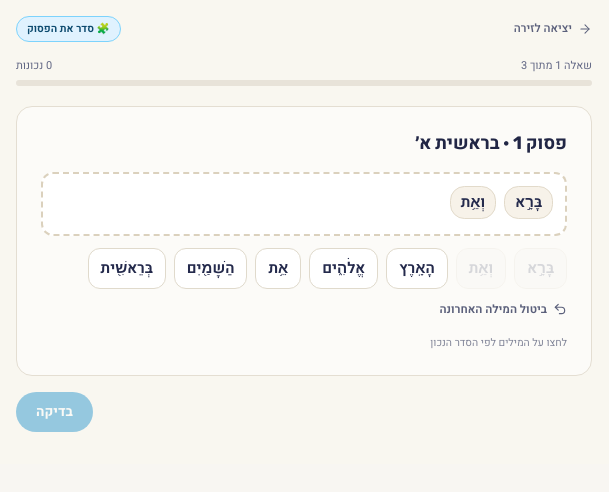
Test: arena page › shows the correct verse order after a wrong answer instead of hiding it
The image size is (609, 492).
Earlier steps of the test are not shown.
Click the button "הָאָֽרֶץ".
click(417, 268)  # box [386, 248, 448, 288]
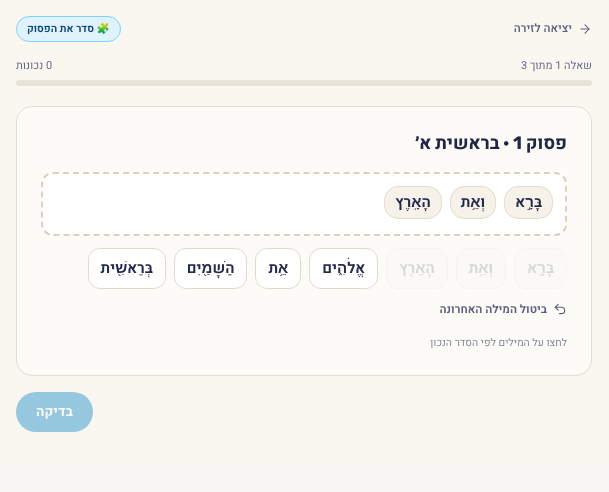
Click the button "אֱלֹהִ֑ים".
click(344, 268)  # box [309, 248, 378, 288]
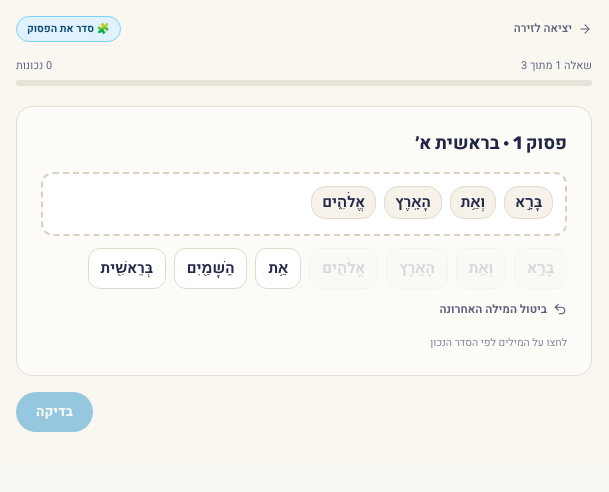
Click the button "אֵ֥ת".
click(278, 268)  # box [255, 248, 301, 288]
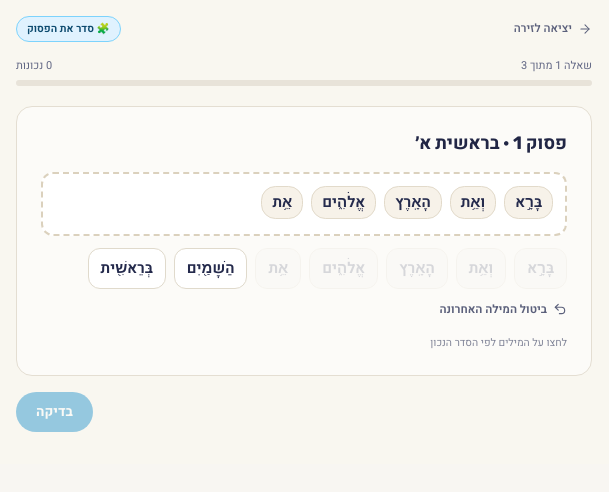
Click the button "הַשָּׁמַ֖יִם".
click(211, 268)  # box [174, 248, 247, 288]
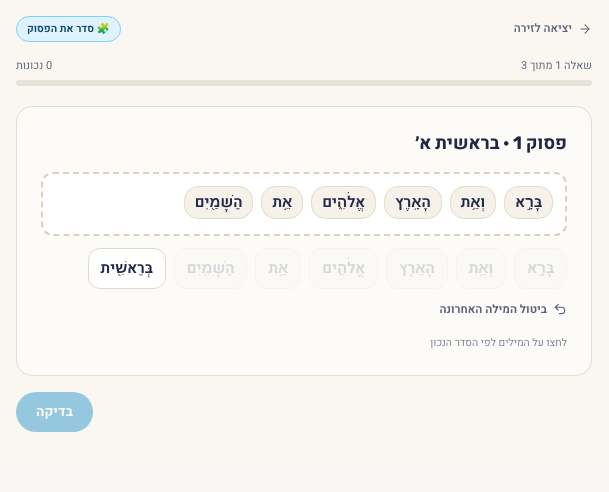
Click the button "בְּרֵאשִׁ֖ית".
click(127, 268)  # box [88, 248, 166, 288]
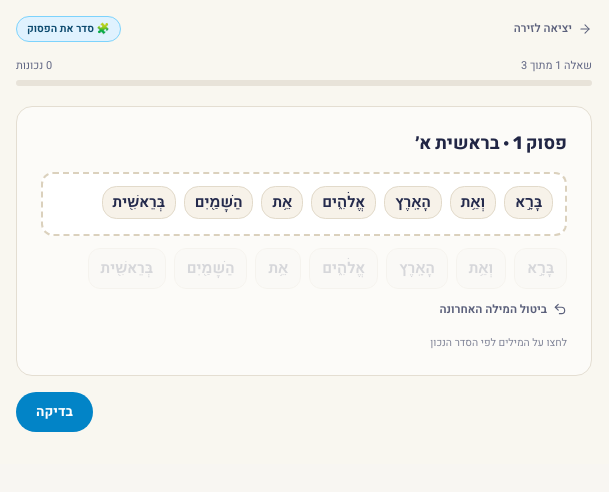
Click the button "בדיקה".
click(54, 412)  # box [16, 392, 93, 432]
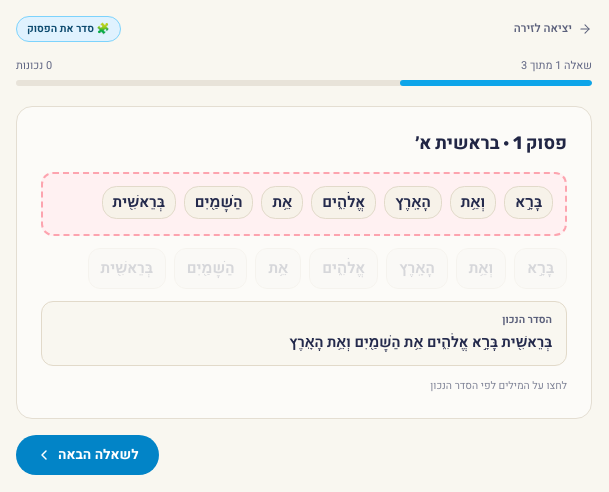
Expected: the text "הסדר הנכון" is shown, [502, 312, 552, 326]
